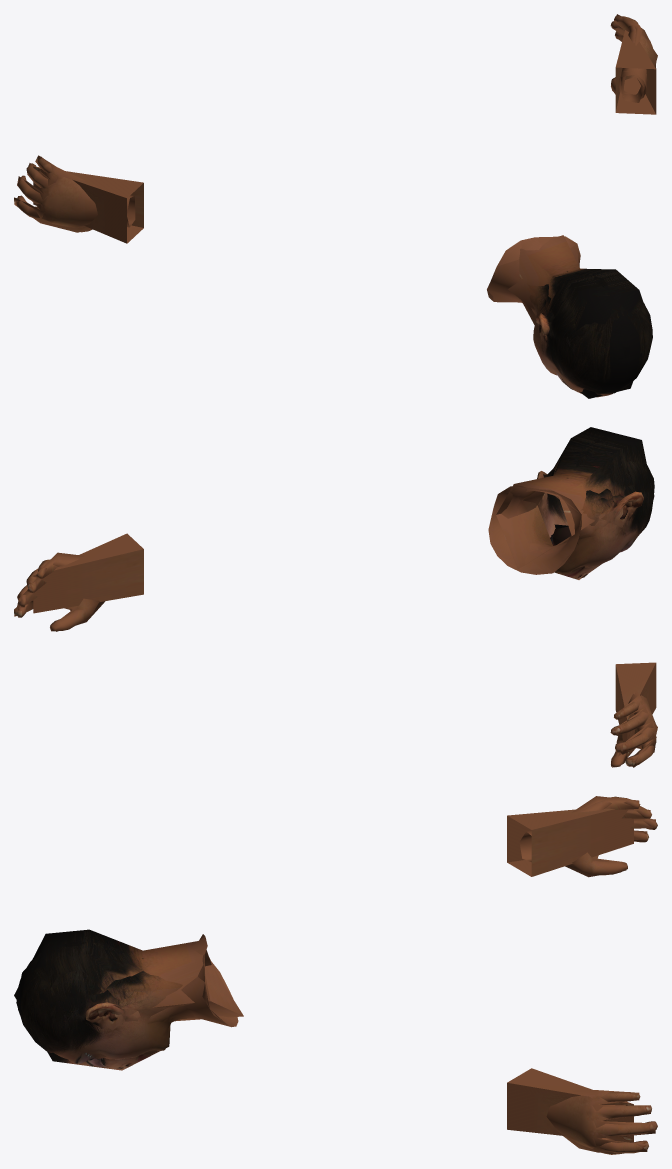
File: head_001_r.obj
3 renders of one model, top to bottom at view 1: azimuth 30°, elevation 25°; view 2: azimuth 150°, elevation 25°; view 3: azimuth 270°, elevation 25°, orthographic. The views are drawn at different scales.
Parts seen in each view (by area): view 1: head_001_r_high_1, head_001_r_low_1, head_001_r_med_1; view 2: head_001_r_low_1, head_001_r_high_1, head_001_r_med_1; view 3: head_001_r_low_1, head_001_r_high_1, head_001_r_med_1.
Part boxes in pixels (x1=…): head_001_r_high_1: x1=16, y1=16, x2=657, y2=397; head_001_r_low_1: x1=33, y1=30, x2=656, y2=398; head_001_r_med_1: x1=14, y1=14, x2=648, y2=394; head_001_r_low_1: x1=33, y1=427, x2=656, y2=757; head_001_r_high_1: x1=16, y1=435, x2=657, y2=767; head_001_r_med_1: x1=14, y1=438, x2=656, y2=767; head_001_r_low_1: x1=14, y1=808, x2=633, y2=1142; head_001_r_high_1: x1=16, y1=796, x2=657, y2=1154; head_001_r_med_1: x1=16, y1=796, x2=655, y2=1152.
Bounding box in the file's own units: 1.09 × 0.208 × 0.9331.
